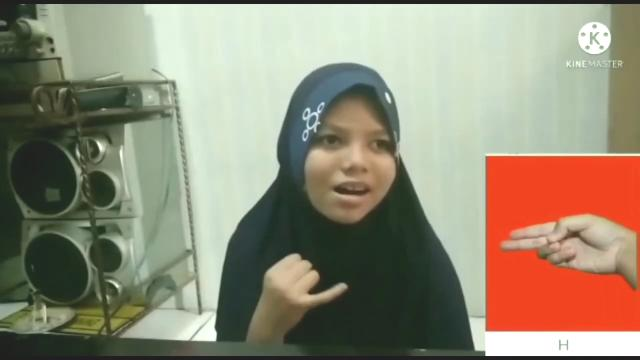H: (498, 214, 636, 288)
I: (262, 252, 346, 334)
